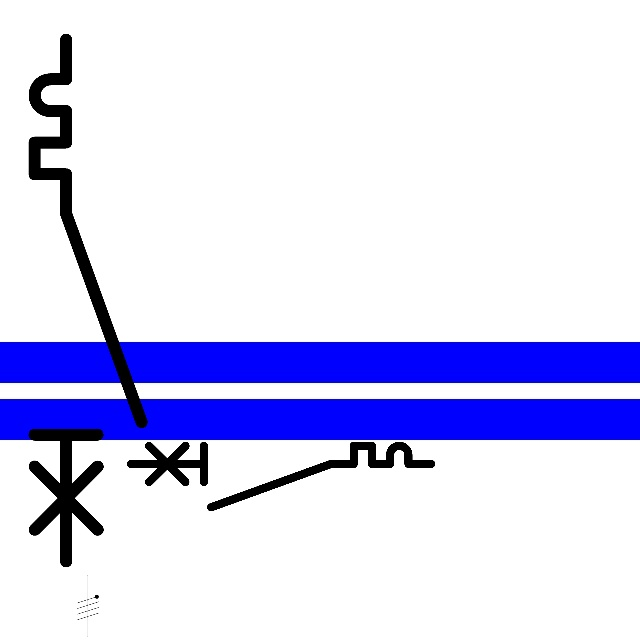interruptor_termomagnetico: (21, 26, 155, 574), (123, 438, 439, 515)
